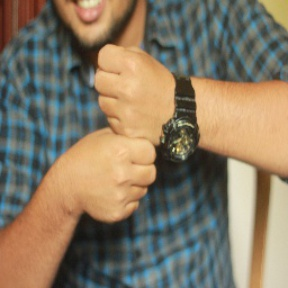G: (70, 39, 178, 230)
